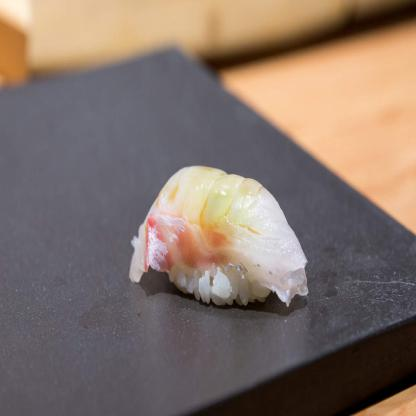tai: (124, 164, 319, 316)
